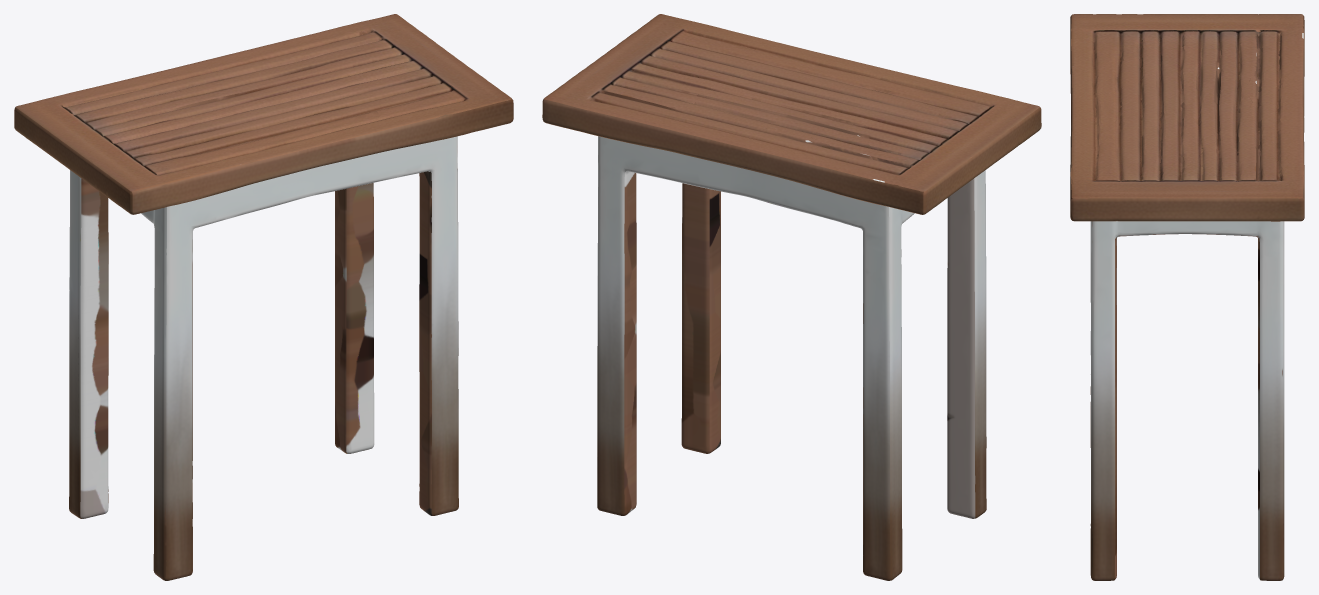
Rendered from table__table#4.glb.
3 renders of one model, left to right at view 1: azimuth 30°, elevation 25°; view 2: azimuth 150°, elevation 25°; view 3: azimuth 270°, elevation 25°, orthographic.
Parts seen in each view (by area): view 1: tmp2mfmh38l.ply; view 2: tmp2mfmh38l.ply; view 3: tmp2mfmh38l.ply.
Part boxes in pixels (x1,y1,x2,y2): tmp2mfmh38l.ply: [14, 14, 513, 580]; tmp2mfmh38l.ply: [542, 14, 1041, 580]; tmp2mfmh38l.ply: [1070, 14, 1304, 580].
Bounding box in the file's own units: 1.95 × 1.99 × 1.04.
Materials: 1 (1 with a texture image).
